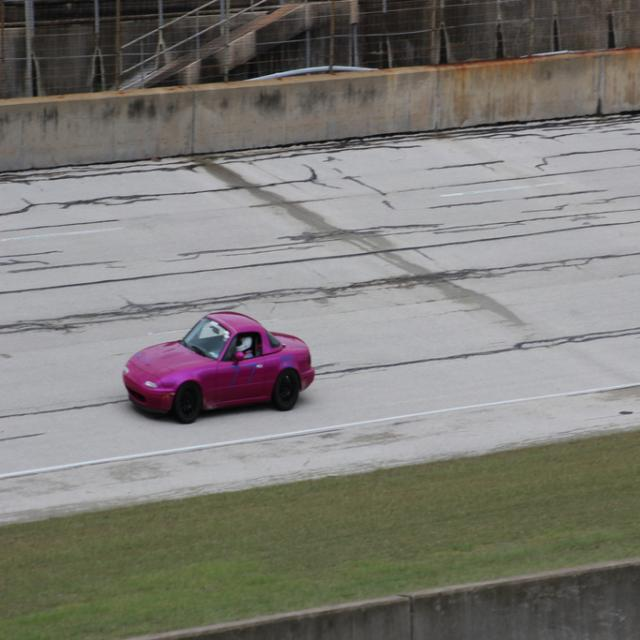car: (120, 311, 313, 423)
